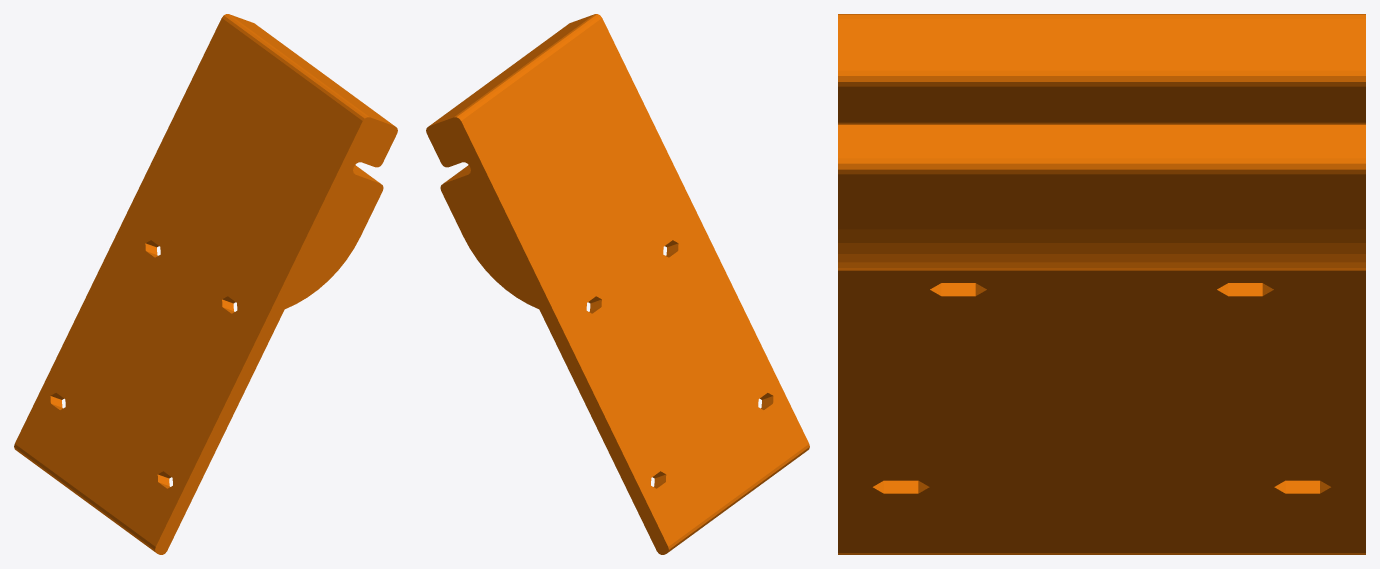
The model's file is RailSlidingPlatform.glb.
The picture shows the model from 3 angles, left to right: view 1: azimuth 30°, elevation 25°; view 2: azimuth 150°, elevation 25°; view 3: azimuth 270°, elevation 25°; orthographic projection. The views are drawn at different scales.
Parts seen in each view (by area): view 1: RailSlidingPlatform_LowRes; view 2: RailSlidingPlatform_LowRes; view 3: RailSlidingPlatform_LowRes.
Part boxes in pixels (x1=…): RailSlidingPlatform_LowRes: x1=14, y1=14, x2=397, y2=554; RailSlidingPlatform_LowRes: x1=426, y1=14, x2=809, y2=554; RailSlidingPlatform_LowRes: x1=838, y1=14, x2=1365, y2=554.
Bounding box in the file's own units: 91.53 × 140 × 92.
